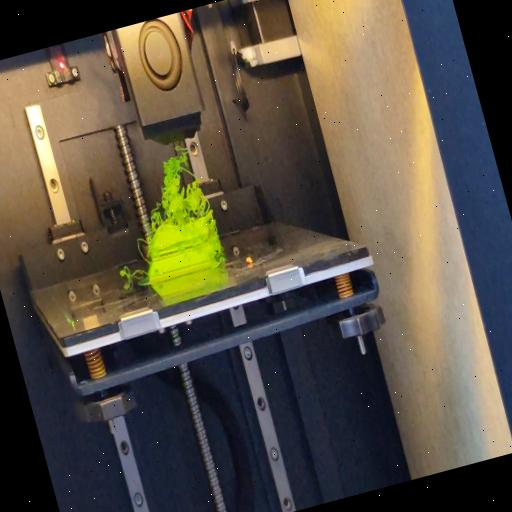spaghetti: (131, 137, 214, 236), (208, 224, 226, 264), (118, 258, 148, 280), (134, 234, 152, 262)
